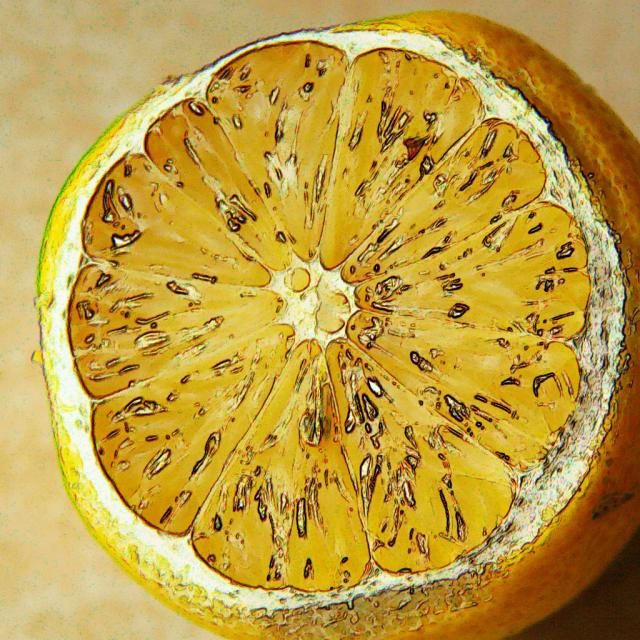Lemon: (38, 10, 640, 640)
